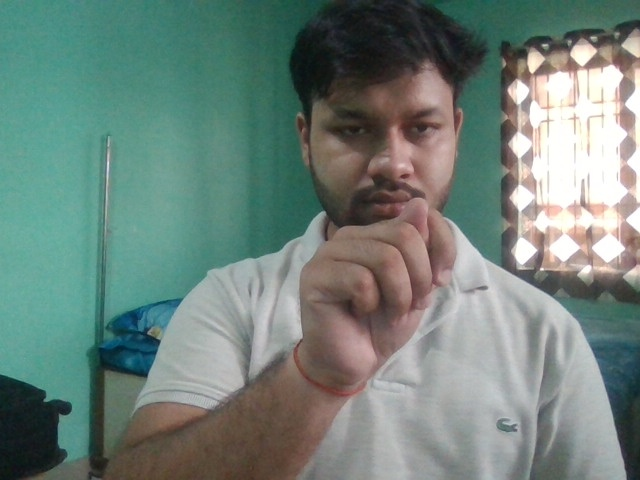Bathroom: (296, 196, 458, 372)
